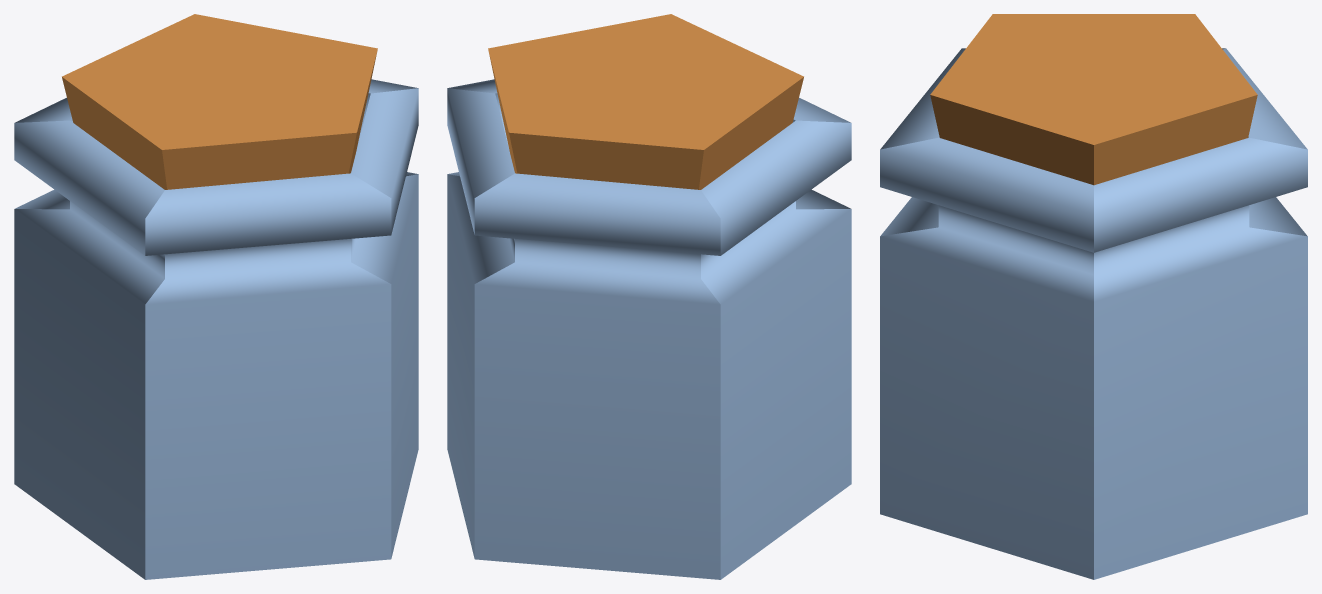
Rendered from Mana Potion.fbx.
The picture shows the model from 3 angles, left to right: view 1: azimuth 30°, elevation 25°; view 2: azimuth 150°, elevation 25°; view 3: azimuth 270°, elevation 25°; orthographic projection.
Parts seen in each view (by area): view 1: pCylinder10; view 2: pCylinder10; view 3: pCylinder10.
Part boxes in pixels (x1,y1,x2,y2): pCylinder10: (14,14,418,579); pCylinder10: (447,14,851,579); pCylinder10: (880,14,1307,579).
Size of the model in its own units: 1.73 by 2.21 by 1.87.
